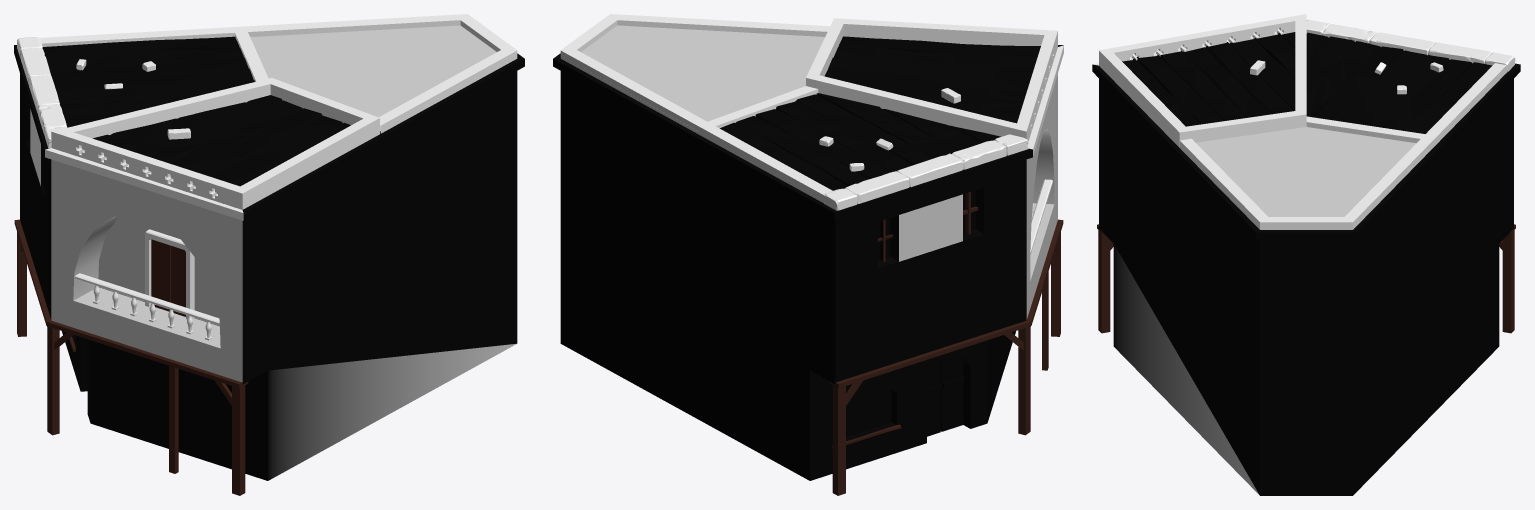
File: civilian_house_07.FBX
3 views of the same model, side by side, from view 1: azimuth 30°, elevation 25°; view 2: azimuth 150°, elevation 25°; view 3: azimuth 270°, elevation 25° (orthographic). The views are drawn at different scales.
Visible parts, largest first — view 1: civilian_house_07; view 2: civilian_house_07; view 3: civilian_house_07.
Part boxes in pixels (x1=…): civilian_house_07: x1=14, y1=14, x2=524, y2=495; civilian_house_07: x1=553, y1=14, x2=1063, y2=495; civilian_house_07: x1=1092, y1=14, x2=1520, y2=495.
Size of the model in its own units: 1738 by 1105 by 1524.
